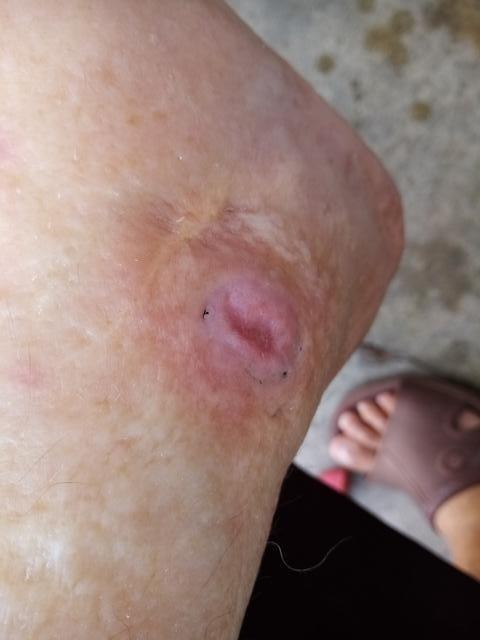wound: (208, 278, 310, 388)
